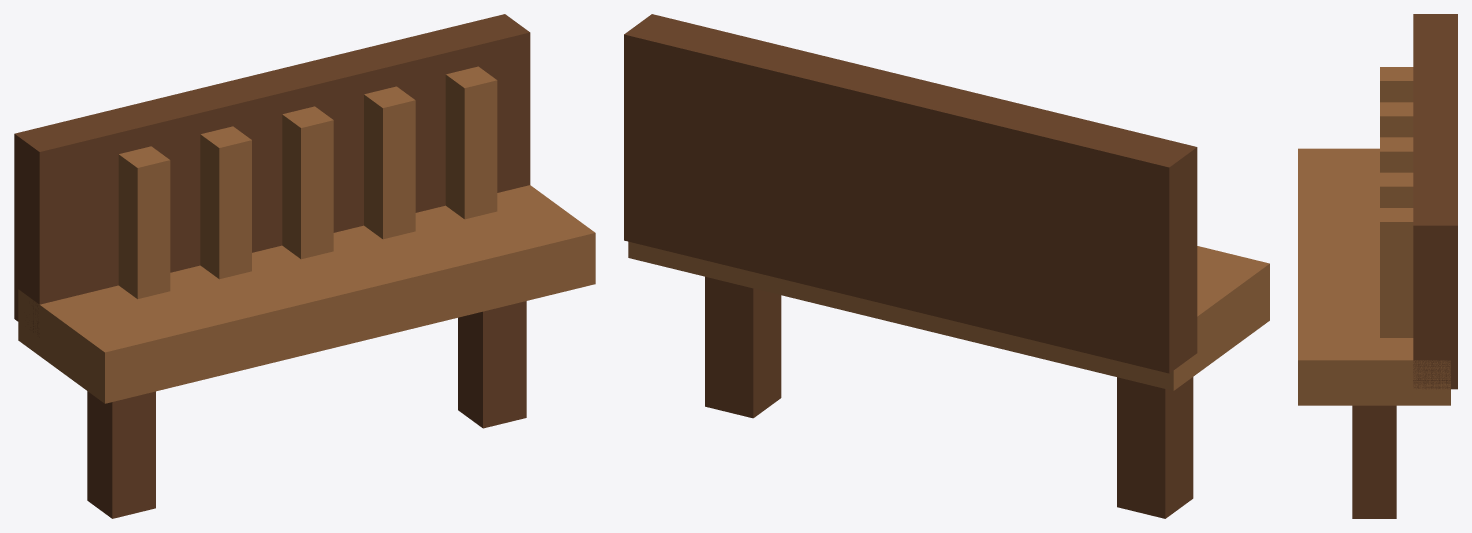
File: garden_bench.obj
3 renders of one model, left to right at view 1: azimuth 30°, elevation 25°; view 2: azimuth 150°, elevation 25°; view 3: azimuth 270°, elevation 25°, orthographic. The views are drawn at different scales.
Parts seen in each view (by area): view 1: garden_bench; view 2: garden_bench; view 3: garden_bench.
Boxes of the visible parts, left/top/right/bottom form: garden_bench: left=14, top=14, right=595, bottom=518; garden_bench: left=624, top=14, right=1269, bottom=518; garden_bench: left=1298, top=14, right=1457, bottom=518.
Size of the model in its own units: 1.8 by 1.23 by 0.575.
